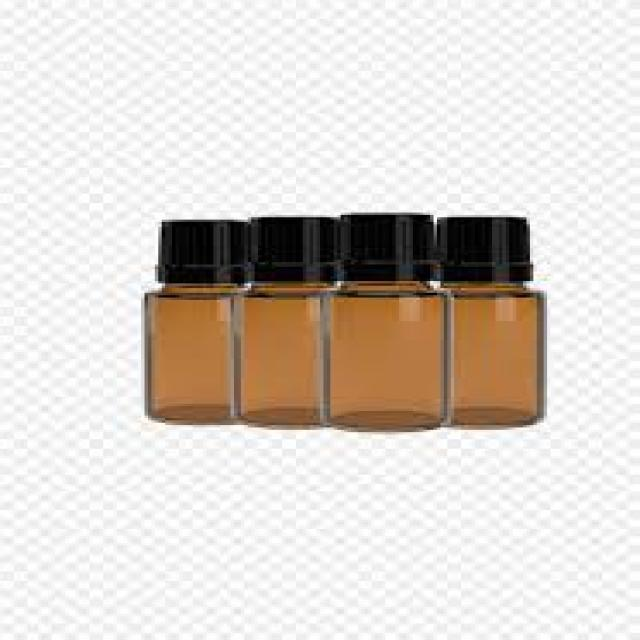Glass-Bottle: (334, 164, 452, 434), (113, 186, 241, 429), (431, 167, 545, 425), (243, 189, 328, 436)
